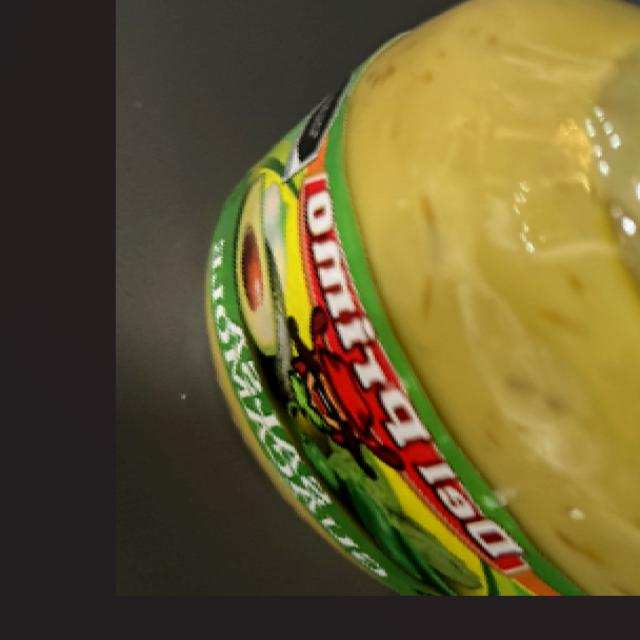delPrimoSalsa: (194, 45, 636, 547)
